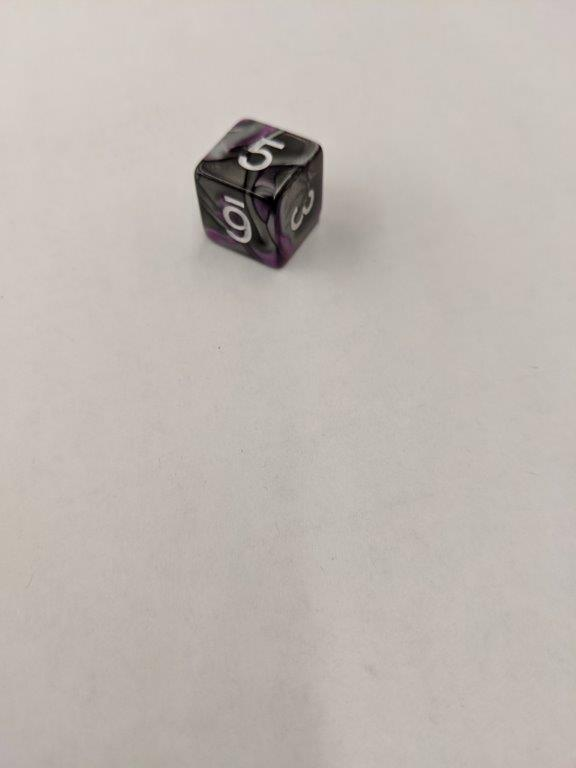d6-5: (193, 117, 324, 268)
